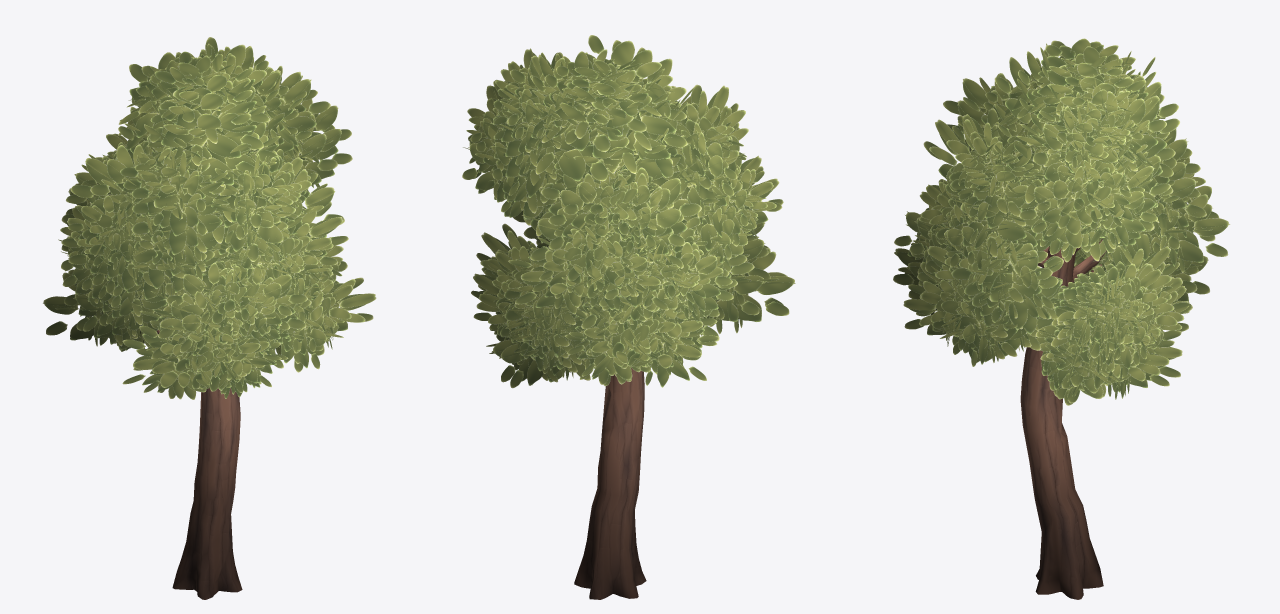
File: CommonTree_1.glb
3 renders of one model, left to right at view 1: azimuth 30°, elevation 25°; view 2: azimuth 150°, elevation 25°; view 3: azimuth 270°, elevation 25°, orthographic. The views are drawn at different scales.
Parts seen in each view (by area): view 1: CommonTree_1; view 2: CommonTree_1; view 3: CommonTree_1.
Boxes of the visible parts, left/top/right/bottom form: CommonTree_1: left=43, top=37, right=376, bottom=599; CommonTree_1: left=462, top=35, right=795, bottom=599; CommonTree_1: left=893, top=38, right=1230, bottom=599.
Bounding box in the file's own units: 4.59 × 7.39 × 4.91.
2 materials, 2 textured.
